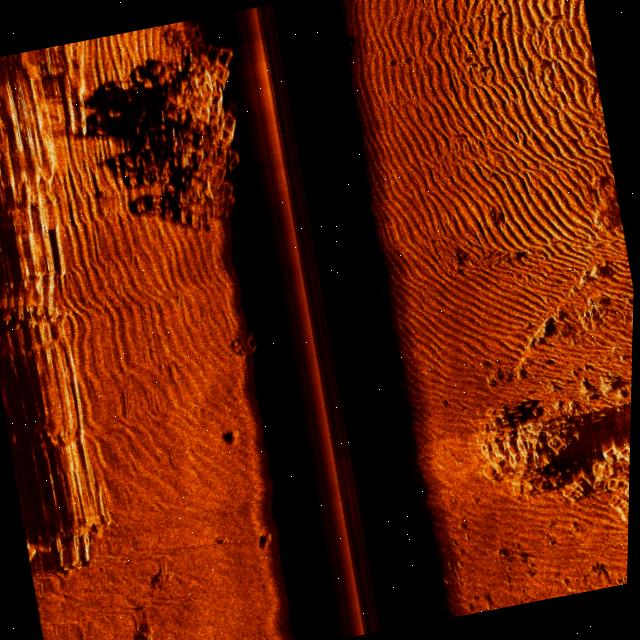artificial reef: (112, 12, 277, 242), (468, 390, 633, 562), (224, 314, 266, 368)
